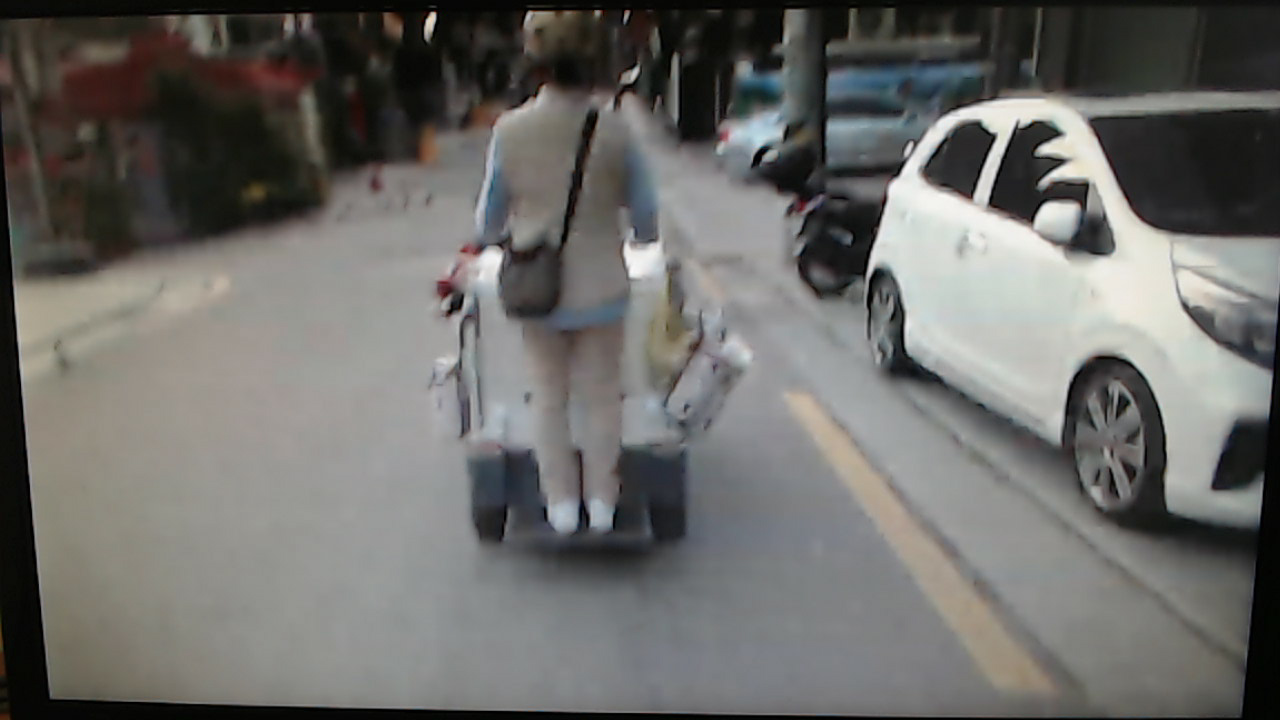Yakurut: (471, 16, 688, 557)
